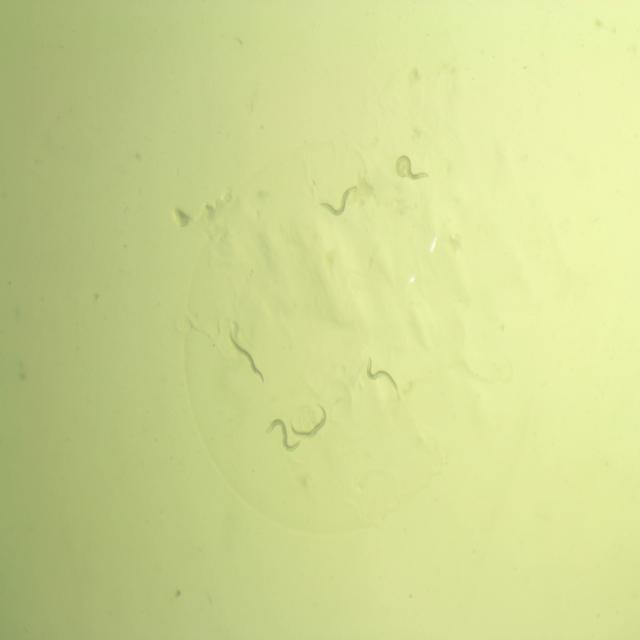worm: (226, 326, 268, 386), (289, 401, 331, 442), (314, 182, 359, 218), (262, 416, 304, 454), (364, 354, 400, 396), (394, 152, 432, 183)
